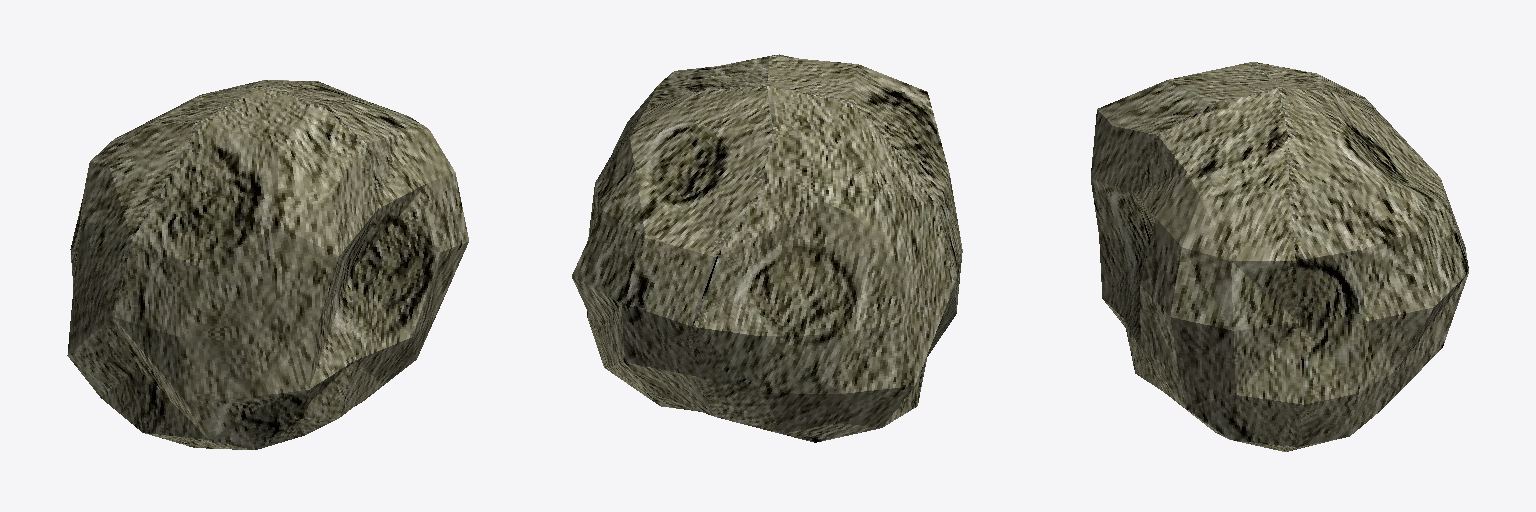
The picture shows the model from 3 angles: view 1: azimuth 30°, elevation 25°; view 2: azimuth 150°, elevation 25°; view 3: azimuth 270°, elevation 25°; orthographic projection.
Visible parts, largest first — view 1: Cube.001; view 2: Cube.001; view 3: Cube.001.
Part boxes in pixels (x1,y1,x2,y2): Cube.001: (67, 80, 468, 449); Cube.001: (572, 54, 962, 442); Cube.001: (1091, 62, 1468, 451).
Size of the model in its own units: 2.1 by 2.02 by 2.06.
1 materials, 1 textured.